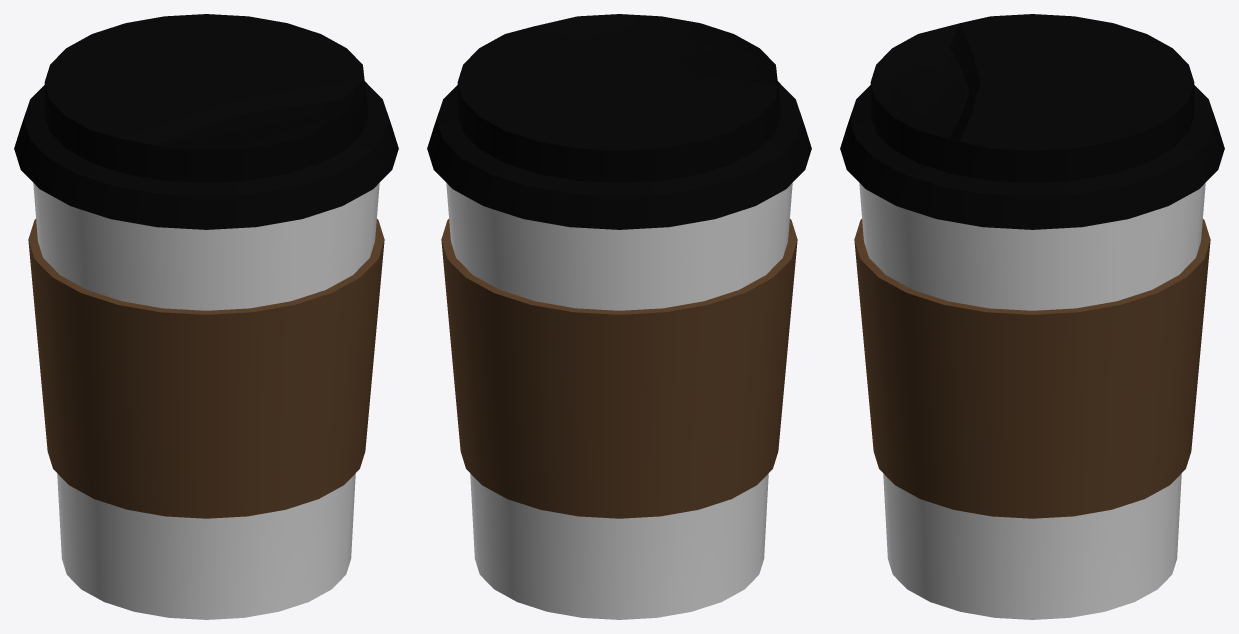
Rendered from CoffeeCup.fbx.
3 views of the same model, side by side, from view 1: azimuth 30°, elevation 25°; view 2: azimuth 150°, elevation 25°; view 3: azimuth 270°, elevation 25° (orthographic).
Visible parts, largest first — view 1: Coffee Sleve, Coffee Lid, Coffee Cup; view 2: Coffee Sleve, Coffee Lid, Coffee Cup; view 3: Coffee Sleve, Coffee Lid, Coffee Cup.
Boxes of the visible parts, box(x1,y1,x2,y2) form: Coffee Sleve: box(28, 219, 384, 518); Coffee Lid: box(14, 14, 398, 229); Coffee Cup: box(33, 183, 379, 619); Coffee Sleve: box(441, 219, 797, 518); Coffee Lid: box(427, 14, 811, 229); Coffee Cup: box(446, 183, 792, 619); Coffee Sleve: box(854, 219, 1210, 518); Coffee Lid: box(840, 14, 1224, 229); Coffee Cup: box(859, 183, 1205, 619).
Bounding box in the file's own units: 266 × 363 × 266.
